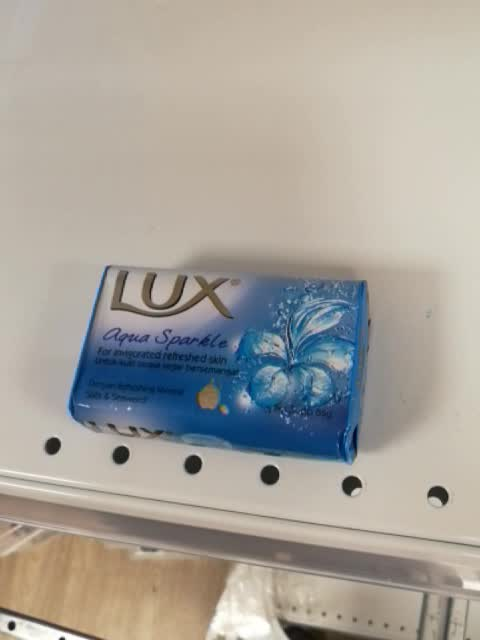soap: (65, 260, 373, 467)
